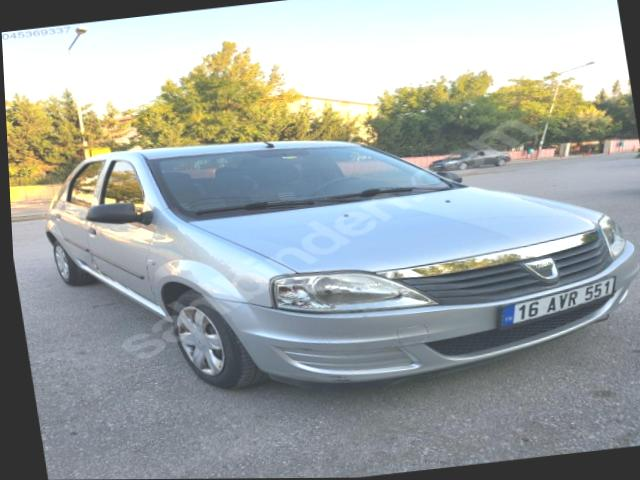plaka: (501, 278, 616, 326)
